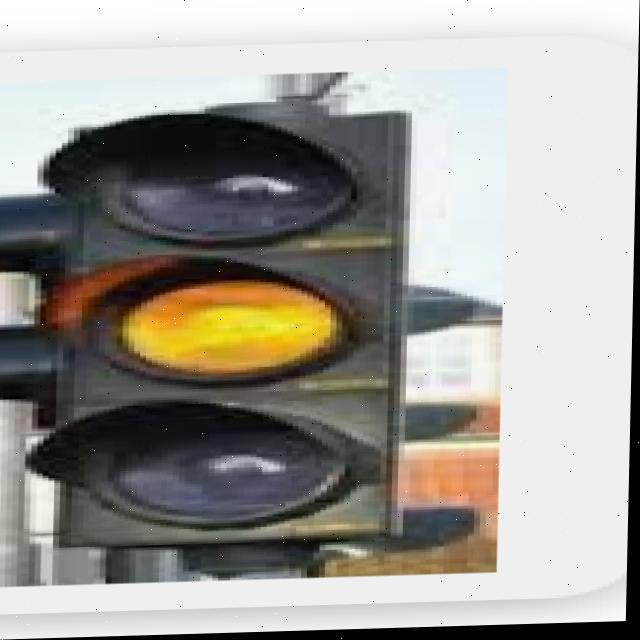light_traffic: (0, 14, 515, 613)
